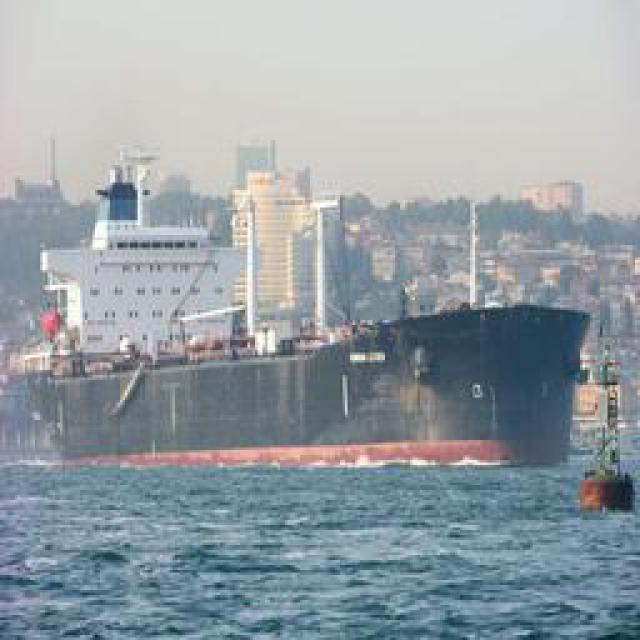Ship: (10, 147, 588, 473), (575, 360, 640, 519)
